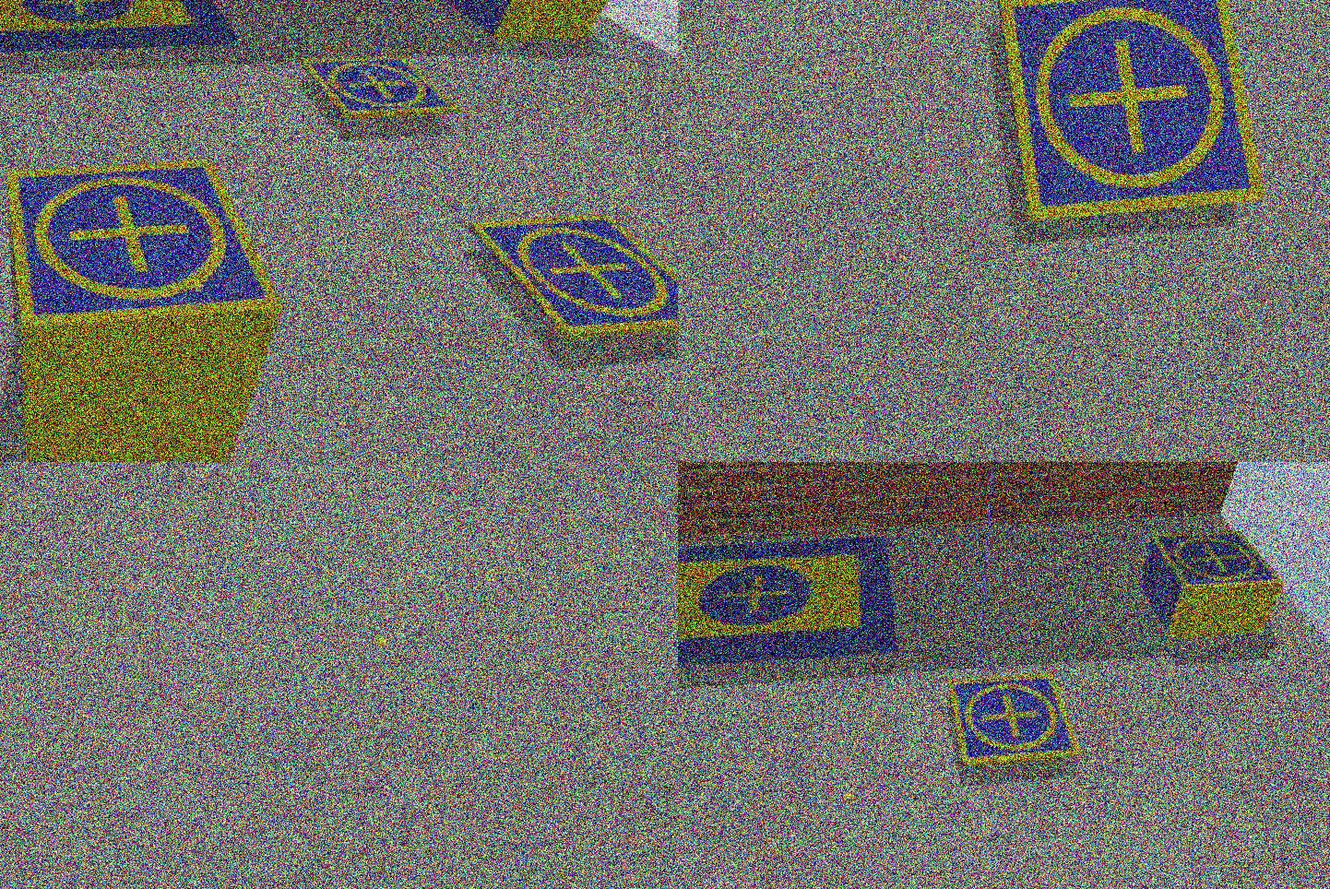large_base: (678, 535, 904, 676), (1, 1, 246, 56)
small_base: (992, 1, 1269, 231), (4, 158, 286, 332), (465, 214, 678, 341), (947, 672, 1085, 768), (303, 53, 457, 123), (1150, 531, 1285, 597)
